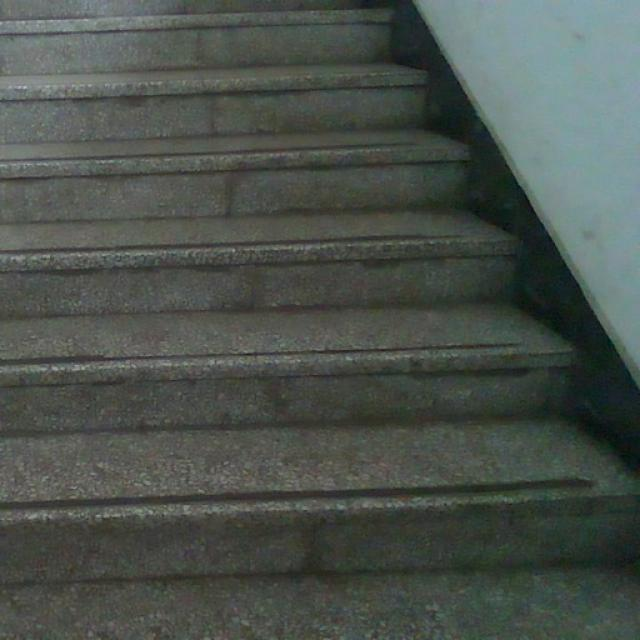Stairs: (0, 0, 639, 605)
